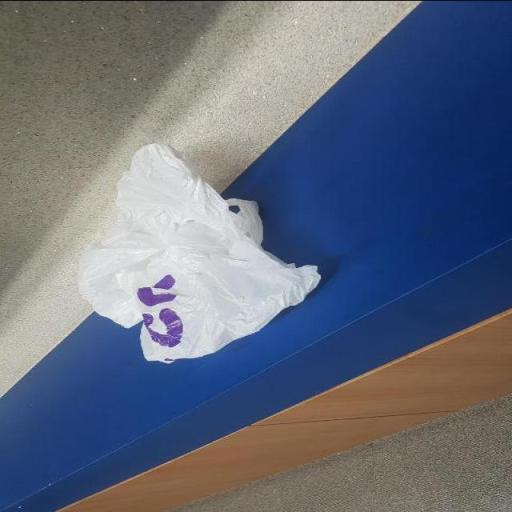plastic-bag: (78, 136, 328, 358)
